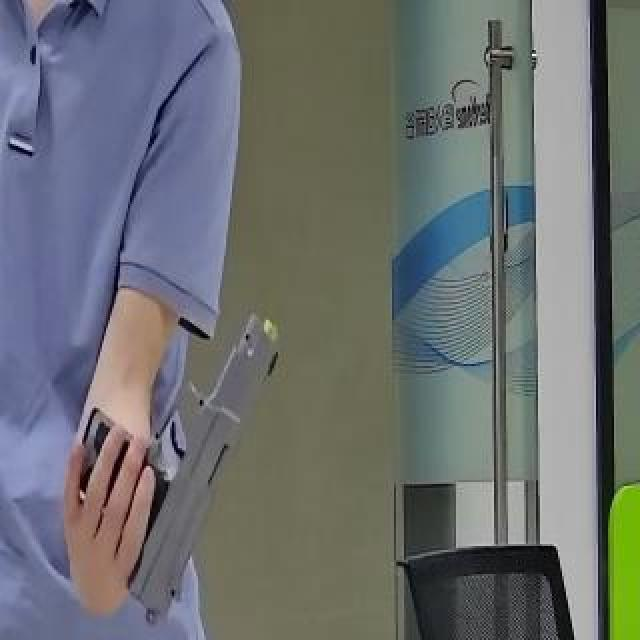Guns: (74, 301, 301, 620)
